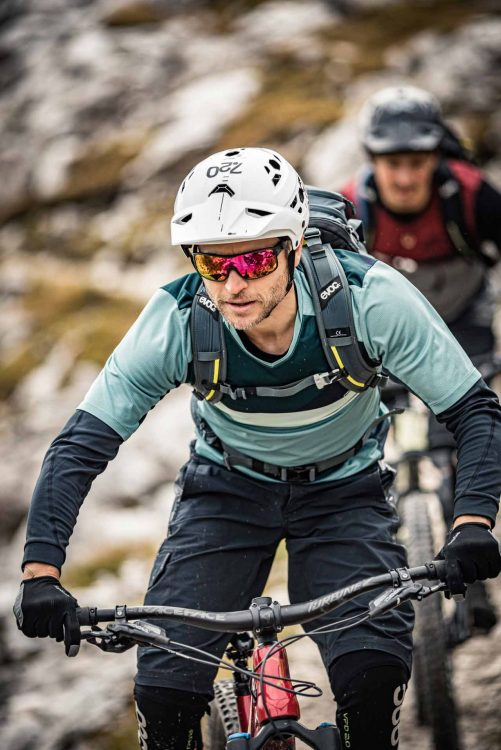helmet: (170, 147, 310, 330), (358, 85, 445, 211)
